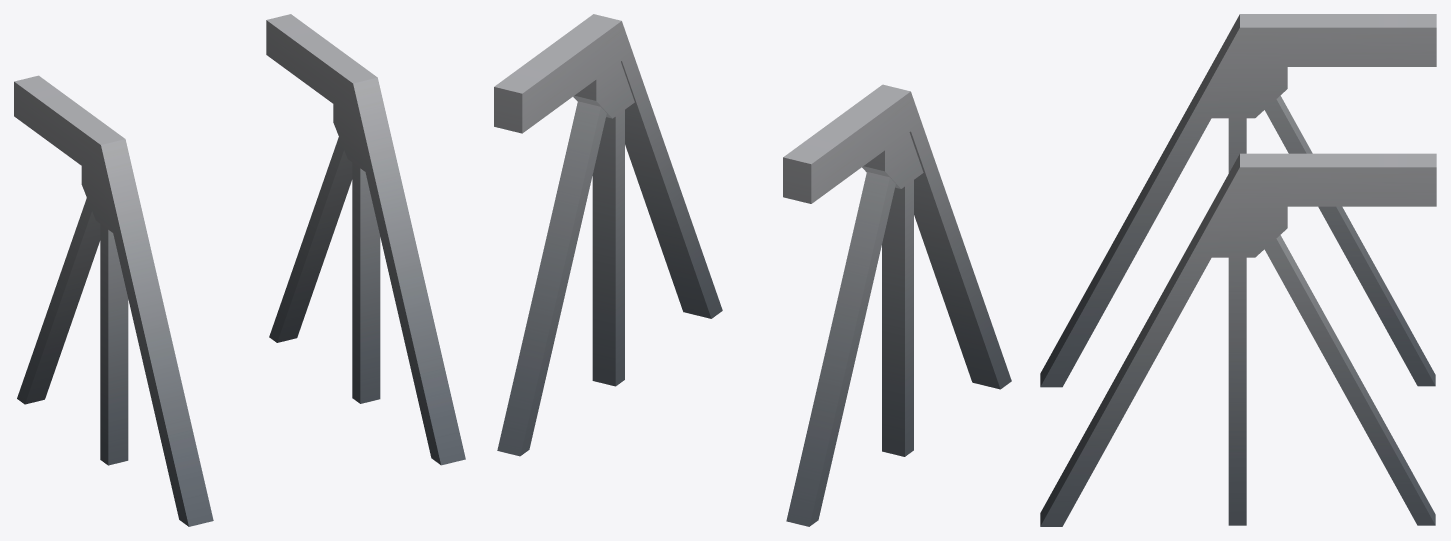
File: puente_inicio.fbx
3 views of the same model, side by side, from view 1: azimuth 30°, elevation 25°; view 2: azimuth 150°, elevation 25°; view 3: azimuth 270°, elevation 25° (orthographic). The views are drawn at different scales.
Visible parts, largest first — view 1: Puente_inicio_fin; view 2: Puente_inicio_fin; view 3: Puente_inicio_fin.
Part boxes in pixels (x1,y1,x2,y2): Puente_inicio_fin: (14,14,465,526); Puente_inicio_fin: (494,14,1011,526); Puente_inicio_fin: (1040,14,1436,526).
Size of the model in its own units: 2260 by 2475 by 2473.
